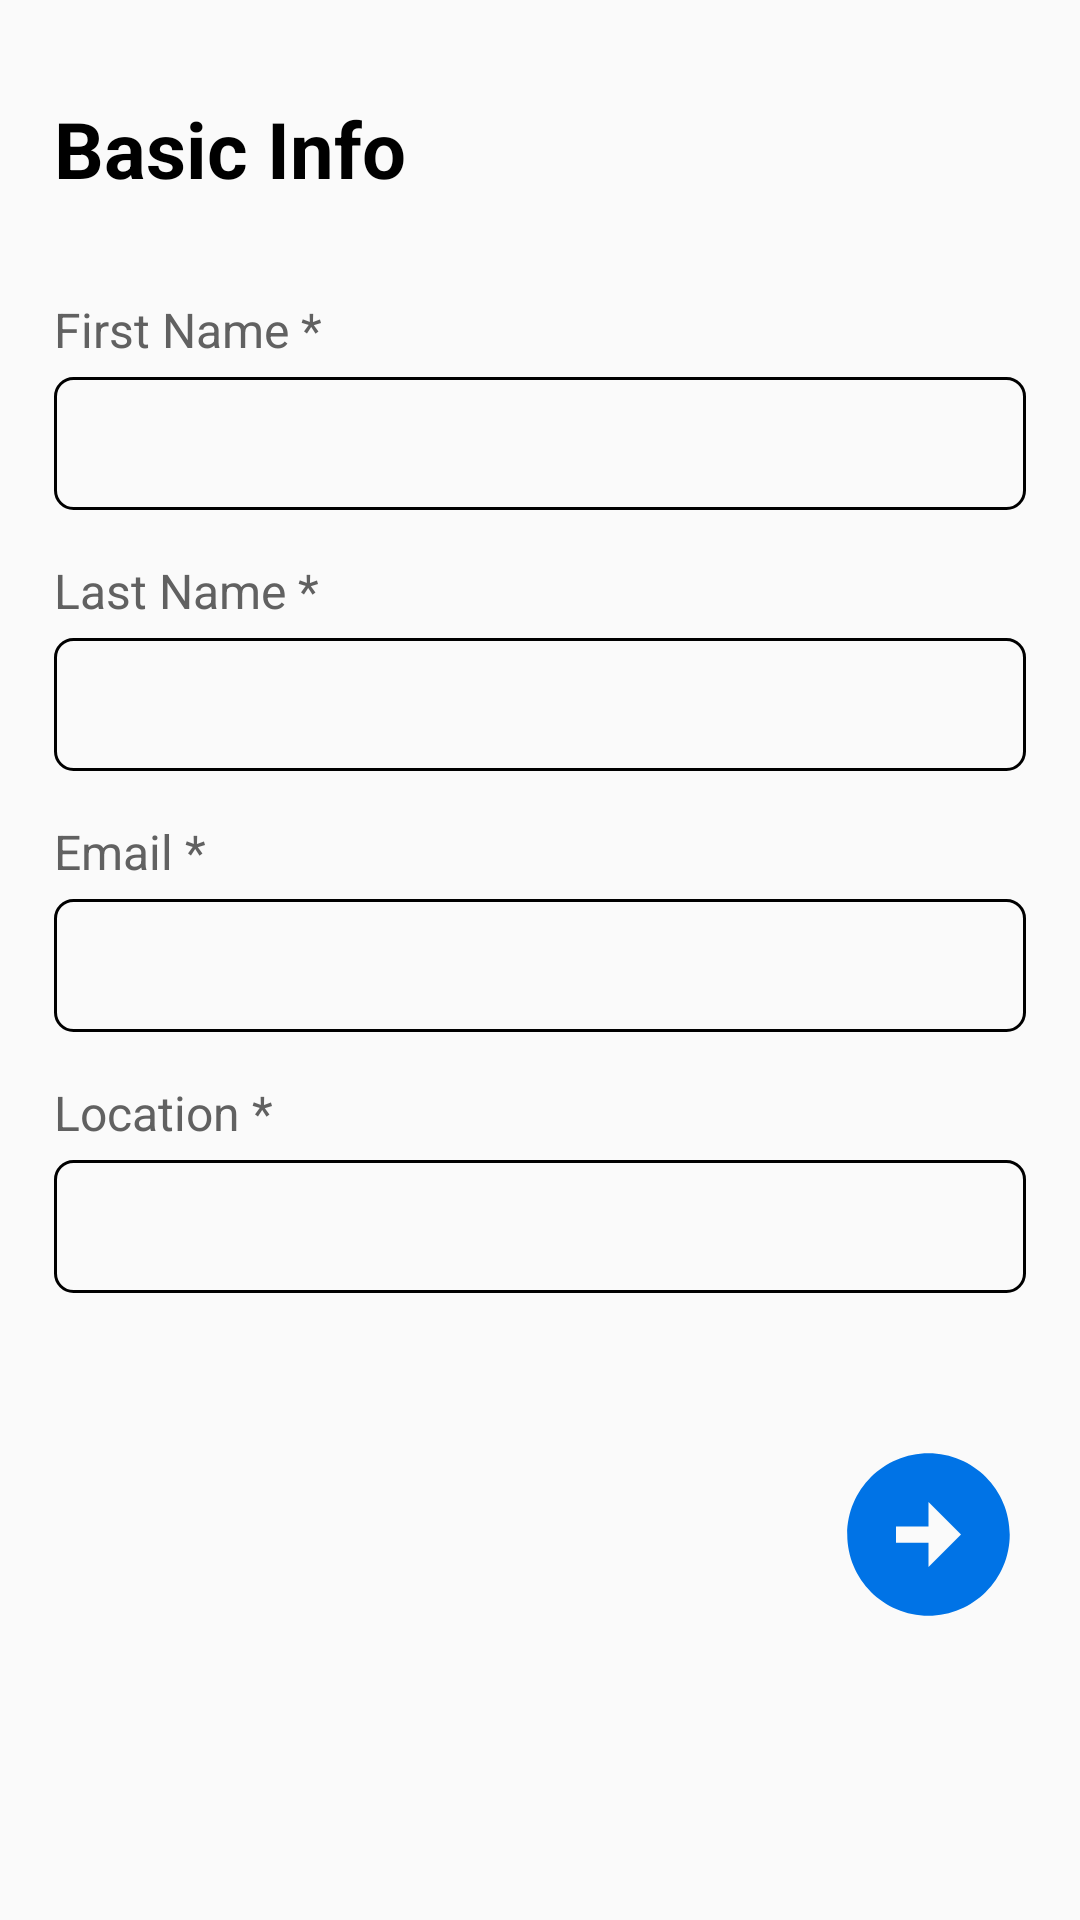

Point at icon controls on the screen. Image size 1080px×1920px, points as [x,y].
arrow: [928,1534]
